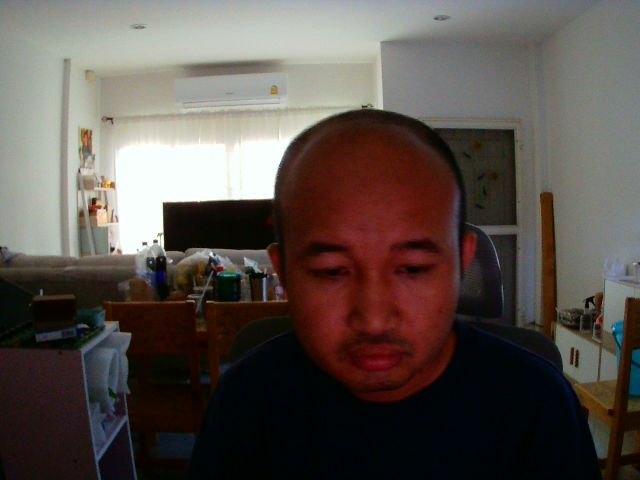face: (273, 104, 459, 395)
